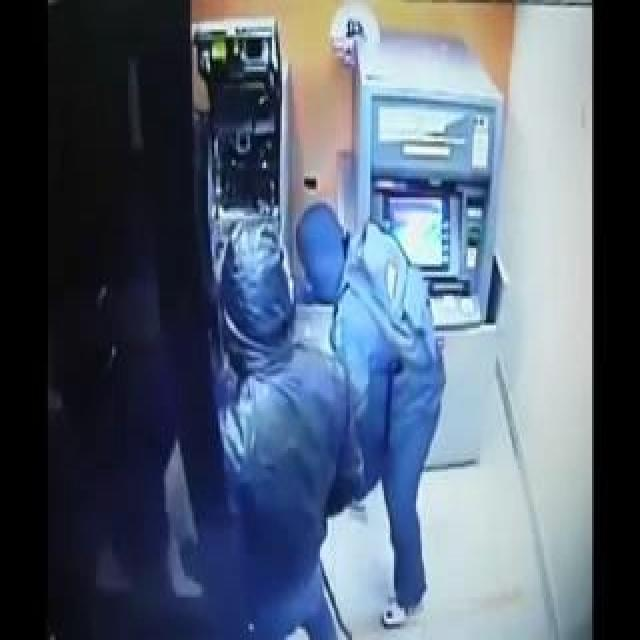thief: (222, 188, 370, 330)
